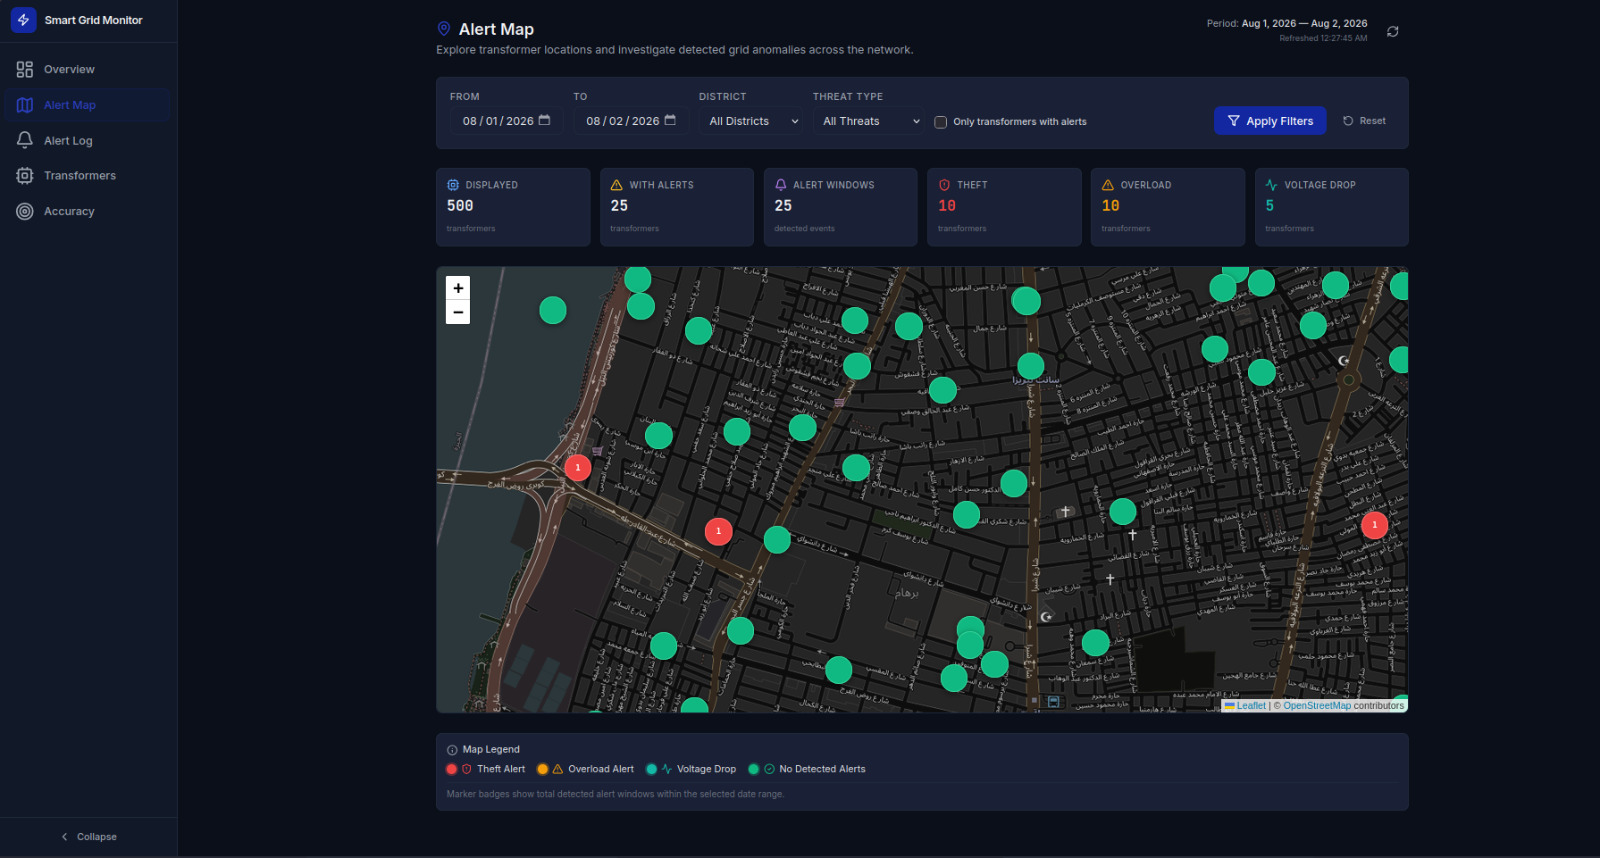

This screenshot's page, from the dashboard's own definition file:
{"tool":"powerbi","page":{"name":"Alert Map","canvas":[1280,720],"ordinal":1},"visuals":[{"type":"cardVisual","fields":{"Data":["ANOMALY_FLAGS.Theft Transformers"]},"box":[40,88,188,102],"z":0},{"type":"cardVisual","fields":{"Data":["ANOMALY_FLAGS.Overload Transformers"]},"box":[288,88,188,102],"z":1000},{"type":"cardVisual","fields":{"Data":["ANOMALY_FLAGS.Line Drop Transformers"]},"box":[536,88,188,102],"z":2000},{"type":"azureMap","title":"Where Are the Alerts?","fields":{"Series":["ANOMALY_FLAGS.EVENT_TYPE"],"Size":["ANOMALY_FLAGS.Alerts"],"X":["DIM_TRANSFORMERS.LON"],"Y":["DIM_TRANSFORMERS.LAT"]},"box":[32,214,844,482],"z":3001},{"type":"slicer","fields":{"Values":["DIM_TRANSFORMERS.DISTRICT"]},"box":[908,214,340,224],"z":3002},{"type":"tableEx","fields":{"Values":["DIM_TRANSFORMERS.TRANSFORMER_ID","DIM_TRANSFORMERS.DISTRICT","ANOMALY_FLAGS.Alerts"]},"box":[908,466,340,230],"z":3003},{"type":"cardVisual","fields":{"Data":["ANOMALY_FLAGS.Flagged Transformers"]},"box":[784,88,444,102],"z":3004}]}

Visuals, with their boxes on the page's 1280x720 design canvas (x1, y1, x2, y2). These are canvas units, not pixel positions in the 1600x858 screenshot, which may show the page scaled, cropped or inside an application window:
cardVisual - ANOMALY_FLAGS.Theft Transformers: bbox(40, 88, 228, 190)
cardVisual - ANOMALY_FLAGS.Overload Transformers: bbox(288, 88, 476, 190)
cardVisual - ANOMALY_FLAGS.Line Drop Transformers: bbox(536, 88, 724, 190)
"Where Are the Alerts?" azureMap: bbox(32, 214, 876, 696)
slicer - DIM_TRANSFORMERS.DISTRICT: bbox(908, 214, 1248, 438)
tableEx - DIM_TRANSFORMERS.TRANSFORMER_ID x DIM_TRANSFORMERS.DISTRICT: bbox(908, 466, 1248, 696)
cardVisual - ANOMALY_FLAGS.Flagged Transformers: bbox(784, 88, 1228, 190)
